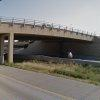Bridge: (1, 6, 96, 52)
